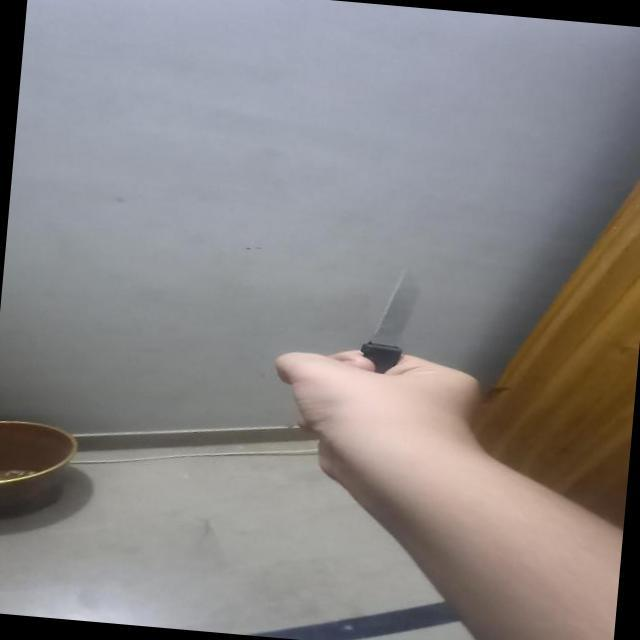Knife: (342, 250, 436, 386)
